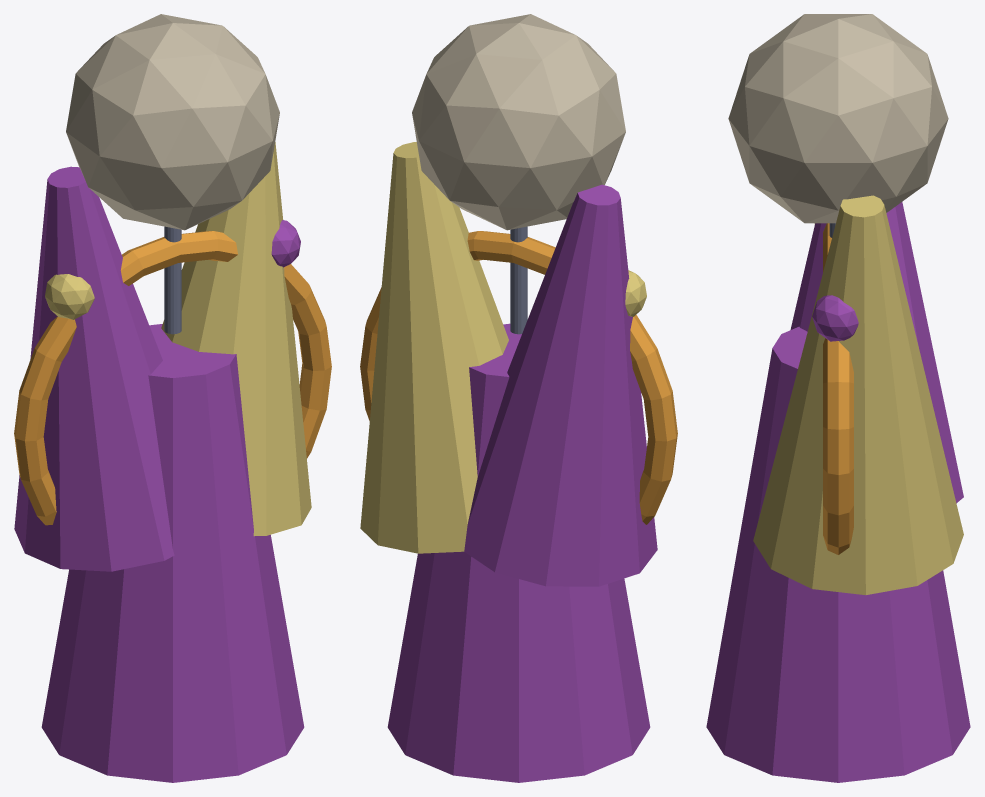
File: veiled-concordat.glb
3 renders of one model, left to right at view 1: azimuth 30°, elevation 25°; view 2: azimuth 150°, elevation 25°; view 3: azimuth 270°, elevation 25°, orthographic.
Visible parts, largest first — view 1: concordat-torso, concordat-veil-half-0, concordat-head, concordat-veil-half-1, concordat-seal-ring, concordat-scale-pan-0, concordat-scale-beam, concordat-scale-pan-1; view 2: concordat-torso, concordat-veil-half-0, concordat-veil-half-1, concordat-head, concordat-seal-ring, concordat-scale-beam, concordat-scale-pan-0; view 3: concordat-torso, concordat-veil-half-1, concordat-head, concordat-seal-ring, concordat-veil-half-0, concordat-scale-pan-1.
Part boxes in pixels (x1,y1,x2,y2): concordat-torso: (41, 324, 304, 782); concordat-veil-half-0: (14, 166, 174, 571); concordat-head: (66, 14, 279, 230); concordat-veil-half-1: (161, 142, 311, 536); concordat-seal-ring: (14, 231, 331, 525); concordat-scale-pan-0: (45, 274, 94, 319); concordat-scale-beam: (164, 226, 181, 334); concordat-scale-pan-1: (271, 220, 300, 267); concordat-torso: (387, 323, 650, 782); concordat-veil-half-0: (464, 184, 657, 586); concordat-veil-half-1: (360, 142, 508, 553); concordat-head: (412, 14, 625, 230); concordat-seal-ring: (360, 231, 677, 524); concordat-scale-beam: (510, 226, 527, 334); concordat-scale-pan-0: (625, 270, 646, 316); concordat-torso: (706, 326, 970, 782); concordat-veil-half-1: (753, 195, 963, 595); concordat-head: (728, 14, 948, 223); concordat-seal-ring: (823, 223, 853, 554); concordat-veil-half-0: (790, 202, 963, 503); concordat-scale-pan-1: (812, 295, 858, 341).
Size of the model in its own units: 0.83 by 1.78 by 0.6.
